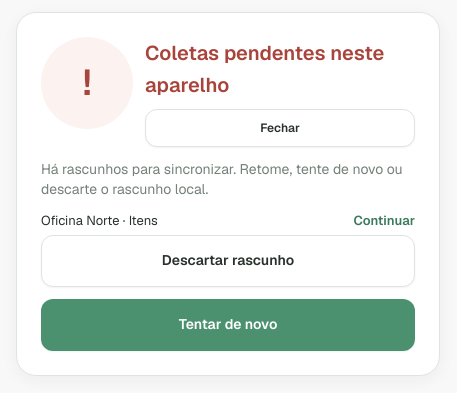
Test case: OfflinePendingBanner online drain › shows sync complete when the queue clears after retry
Click the button "Tentar de novo".
click(228, 324)  # box [41,298,415,350]
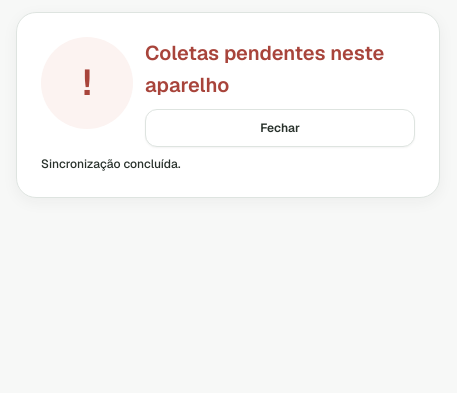
Now the text "Sincronização concluída." is shown, box [41,156,180,172]
